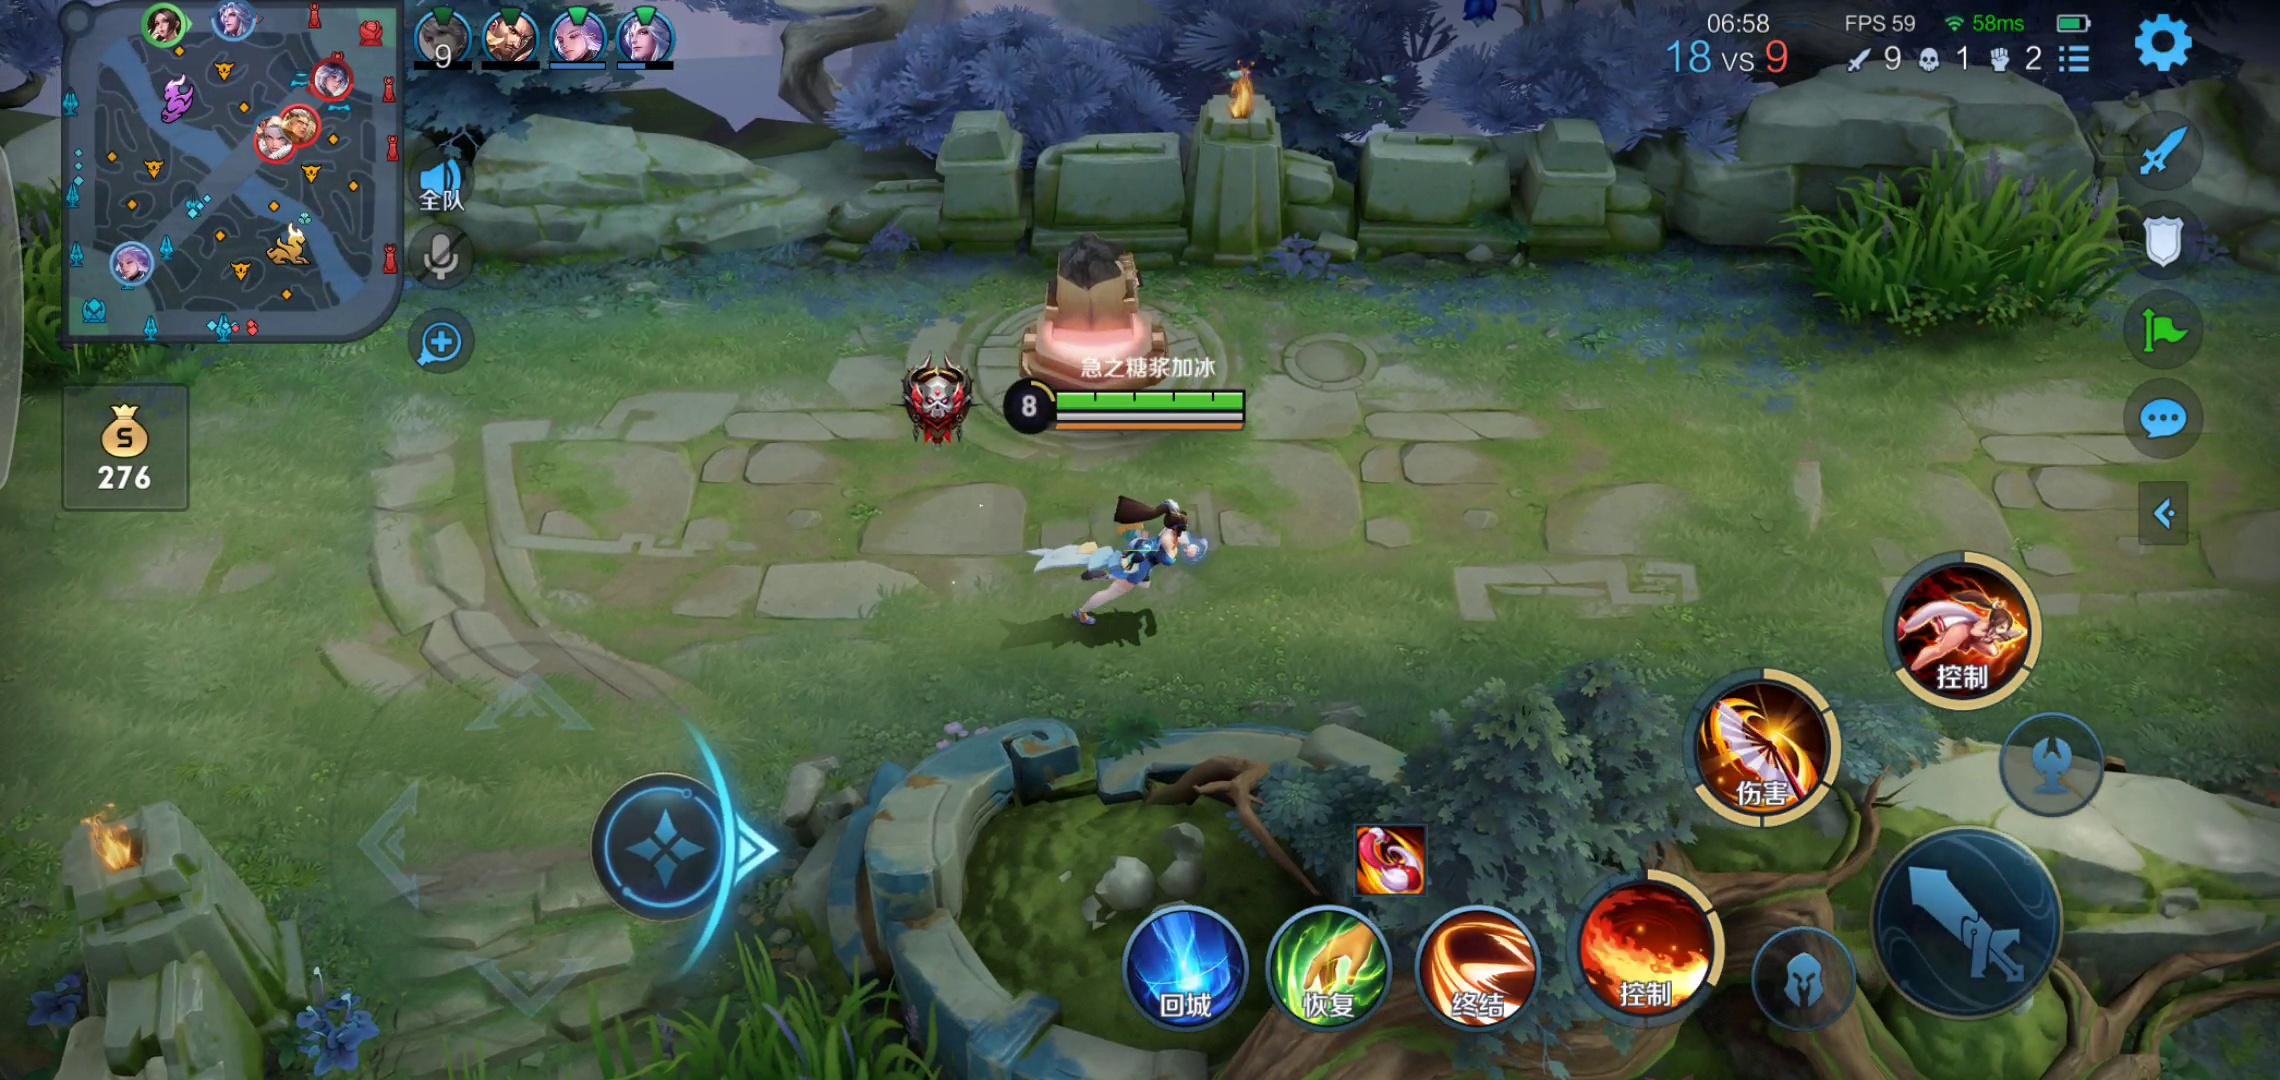grass: (1775, 156, 2124, 340), (518, 971, 944, 1080)
hero: (1024, 494, 1211, 642)
tower: (1008, 251, 1192, 394)
